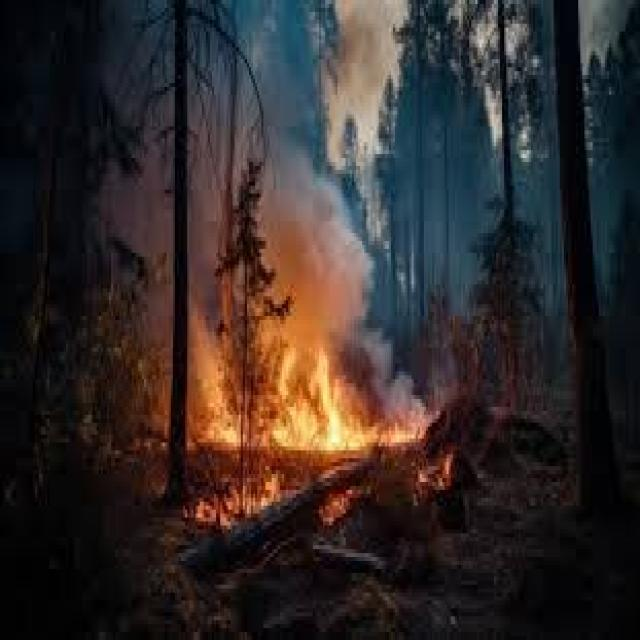Fire: (187, 340, 426, 457), (191, 467, 286, 527)
Smoke: (278, 169, 377, 336)
